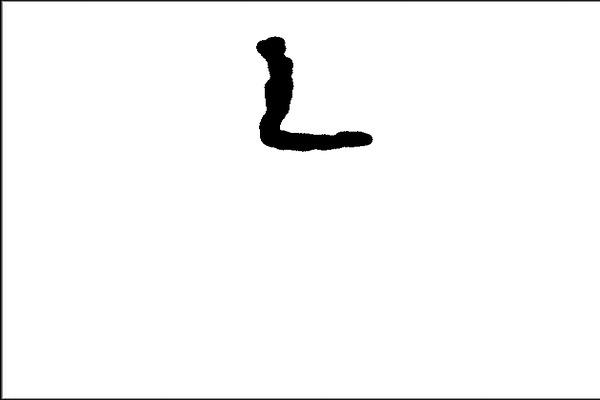L: (245, 27, 386, 158)
